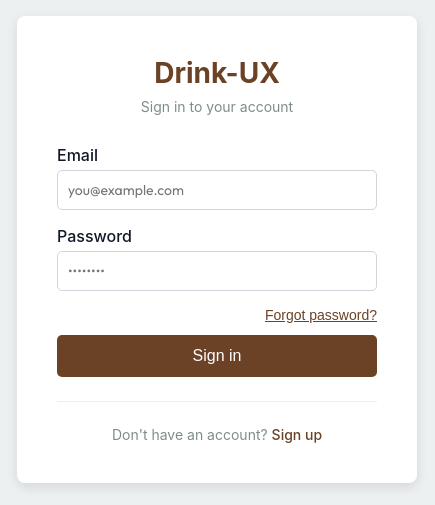
Scenario: Login › switches to forgot password view when clicking "Forgot password?"
What coordinates should you click on to do the following:
click the button "Forgot password?"
I would click on:
 (321, 314)
Its box is [265, 306, 377, 322].
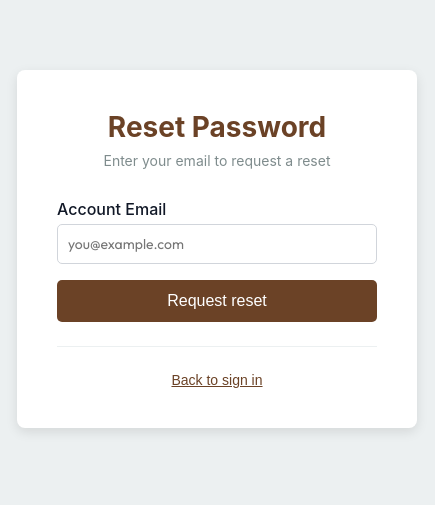
Result: the heading "Reset Password" is shown at [108, 110, 326, 144]
Result: the field labelled "Account Email" is shown at [57, 224, 377, 264]
